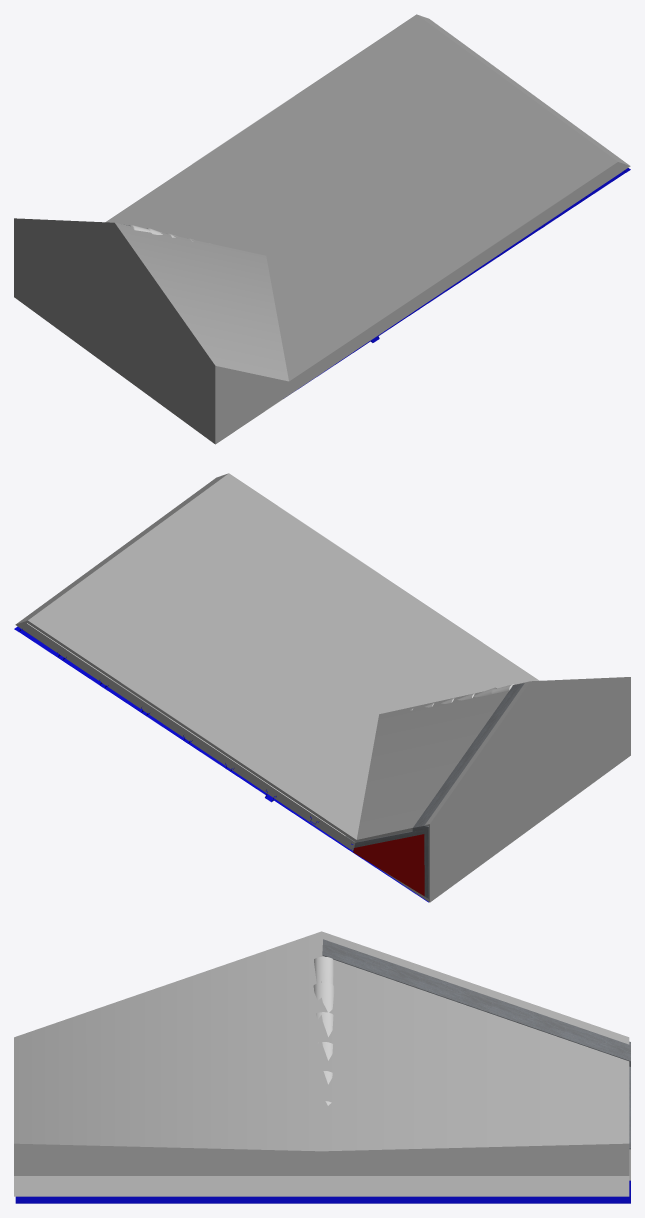
File: M_md_Roof_8m_01.fbx
The picture shows the model from 3 angles, top to bottom: view 1: azimuth 30°, elevation 25°; view 2: azimuth 150°, elevation 25°; view 3: azimuth 270°, elevation 25°; orthographic projection. The views are drawn at different scales.
Parts seen in each view (by area): view 1: M_md_Roof_8m_01_col, M_md_Roof_8m_01_LOD0; view 2: M_md_Roof_8m_01_col, M_md_Roof_8m_01_LOD0, M_md_Roof_8m_01_Roof_LOD0; view 3: M_md_Roof_8m_01_col, M_md_Roof_8m_01_LOD0, M_md_Roof_8m_01_Roof_LOD0.
Part boxes in pixels (x1,y1,x2,y2): M_md_Roof_8m_01_col: (14, 14, 630, 444); M_md_Roof_8m_01_LOD0: (124, 168, 630, 390); M_md_Roof_8m_01_col: (15, 473, 630, 902); M_md_Roof_8m_01_LOD0: (14, 626, 524, 902); M_md_Roof_8m_01_Roof_LOD0: (27, 623, 514, 842); M_md_Roof_8m_01_col: (14, 931, 629, 1196); M_md_Roof_8m_01_LOD0: (15, 939, 630, 1203); M_md_Roof_8m_01_Roof_LOD0: (313, 956, 630, 1180).
Size of what is drawn, in the model's own units: 954 by 407 by 802.
